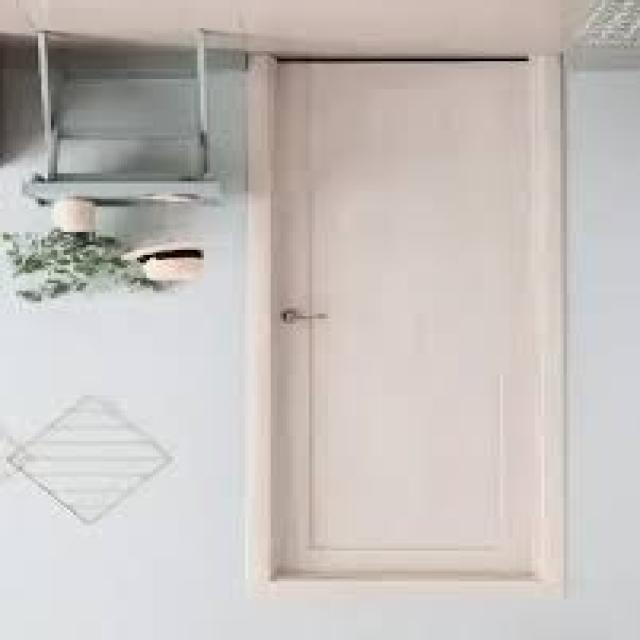door: (267, 58, 564, 590)
